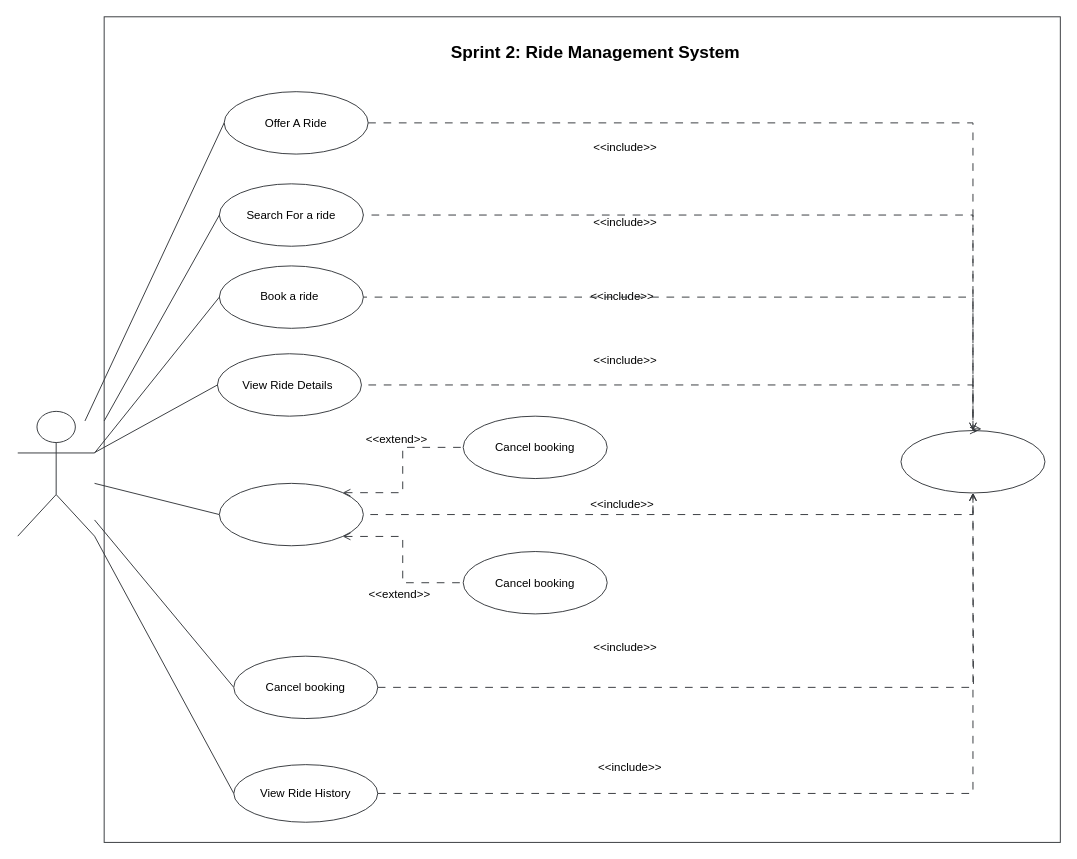
This 1077x859 diagram has some shape labels left out. The shapes that lost their labels are listed below. From the top down, each one's centre as x and y in pixels, then its label:
(56,473): Collaborator
(972,461): Authenticate as (SSO Outlook)
(290,514): Manage Ride
